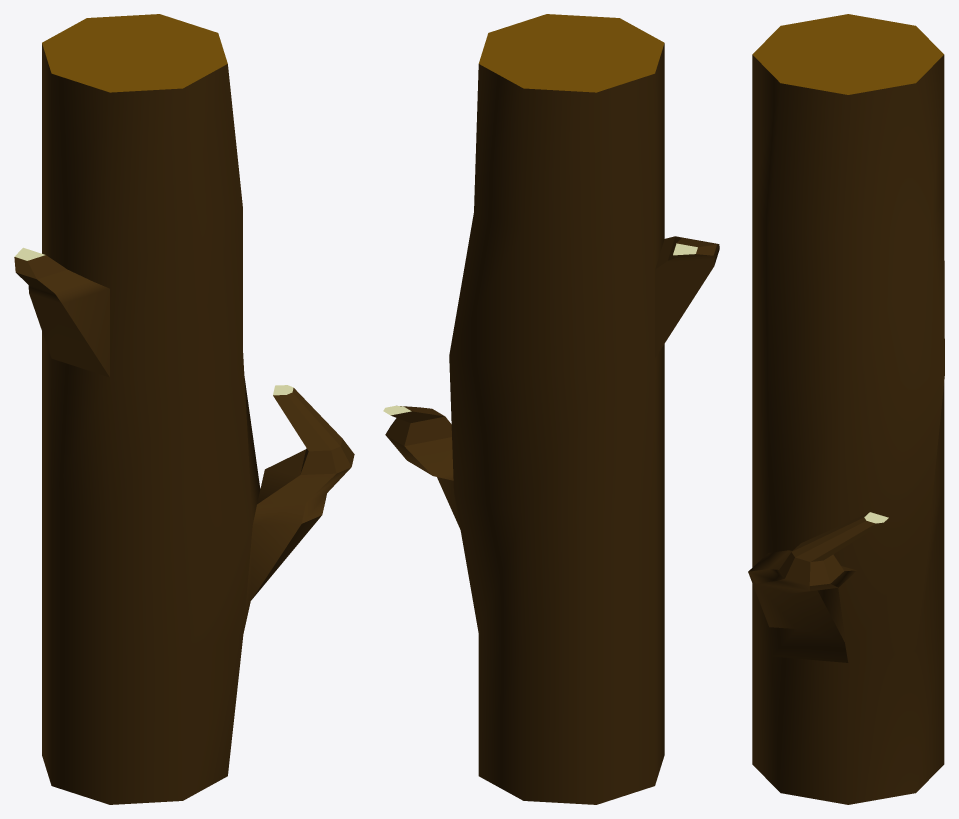
Rendered from Log2.fbx.
3 renders of one model, left to right at view 1: azimuth 30°, elevation 25°; view 2: azimuth 150°, elevation 25°; view 3: azimuth 270°, elevation 25°, orthographic.
Parts seen in each view (by area): view 1: pCylinder59; view 2: pCylinder59; view 3: pCylinder59.
Part boxes in pixels (x1,y1,x2,y2): pCylinder59: (14,14,354,804); pCylinder59: (383,14,719,804); pCylinder59: (748,14,944,804).
Bounding box in the file's own units: 1.19 × 2.45 × 0.6161.
